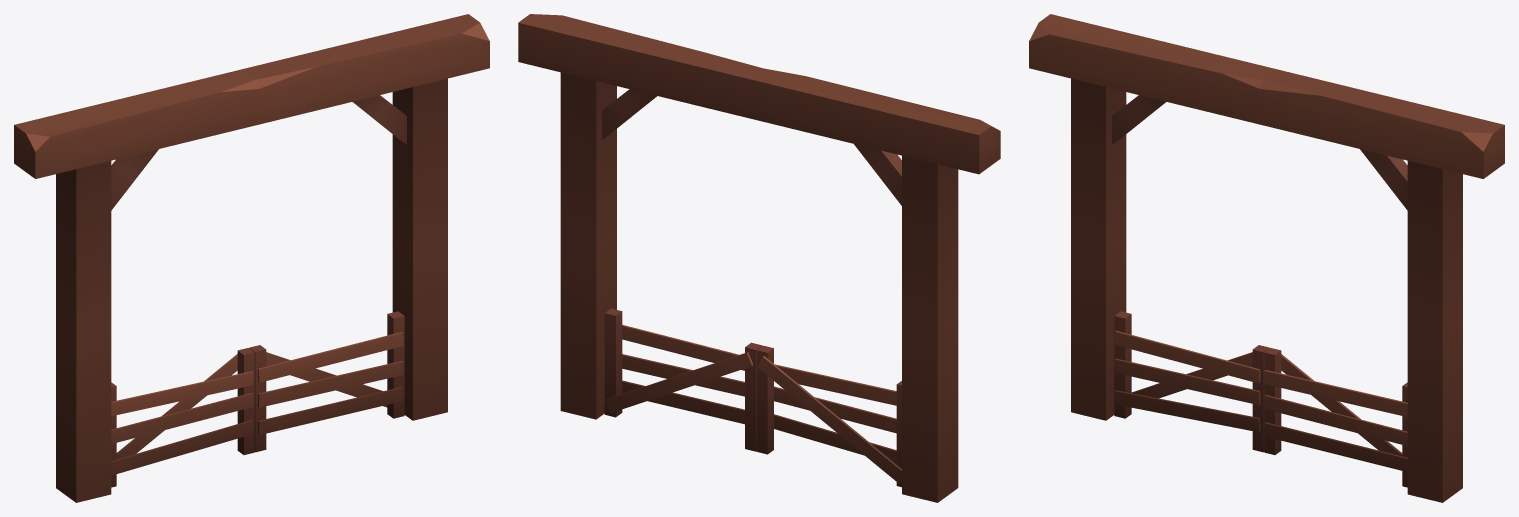
File: farmpack2023gate.fbx
3 views of the same model, side by side, from view 1: azimuth 30°, elevation 25°; view 2: azimuth 150°, elevation 25°; view 3: azimuth 330°, elevation 25° (orthographic).
Visible parts, largest first — view 1: Cube.012; view 2: Cube.012; view 3: Cube.012.
Part boxes in pixels (x1,y1,x2,y2): Cube.012: (14, 14, 489, 502); Cube.012: (518, 14, 1000, 502); Cube.012: (1029, 14, 1504, 502).
Bounding box in the file's own units: 0.711 × 8.74 × 6.85.
